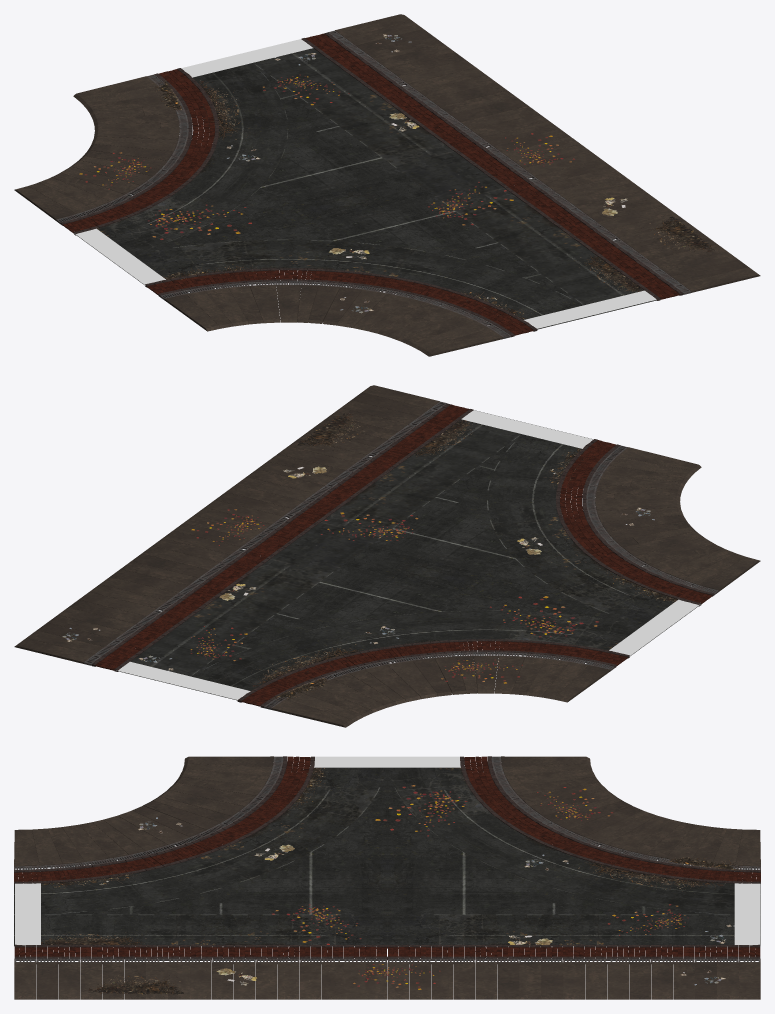
Rendered from ROAD 3 WAY.fbx.
3 views of the same model, one above another, from view 1: azimuth 30°, elevation 25°; view 2: azimuth 150°, elevation 25°; view 3: azimuth 270°, elevation 25° (orthographic). The views are drawn at different scales.
Parts seen in each view (by area): view 1: ROAD 3 WAY; view 2: ROAD 3 WAY; view 3: ROAD 3 WAY.
Part boxes in pixels (x1,y1,x2,y2): ROAD 3 WAY: (14, 14, 760, 356); ROAD 3 WAY: (14, 385, 760, 727); ROAD 3 WAY: (14, 756, 760, 999).
Size of the model in its own units: 3731 by 19.33 by 4874.
